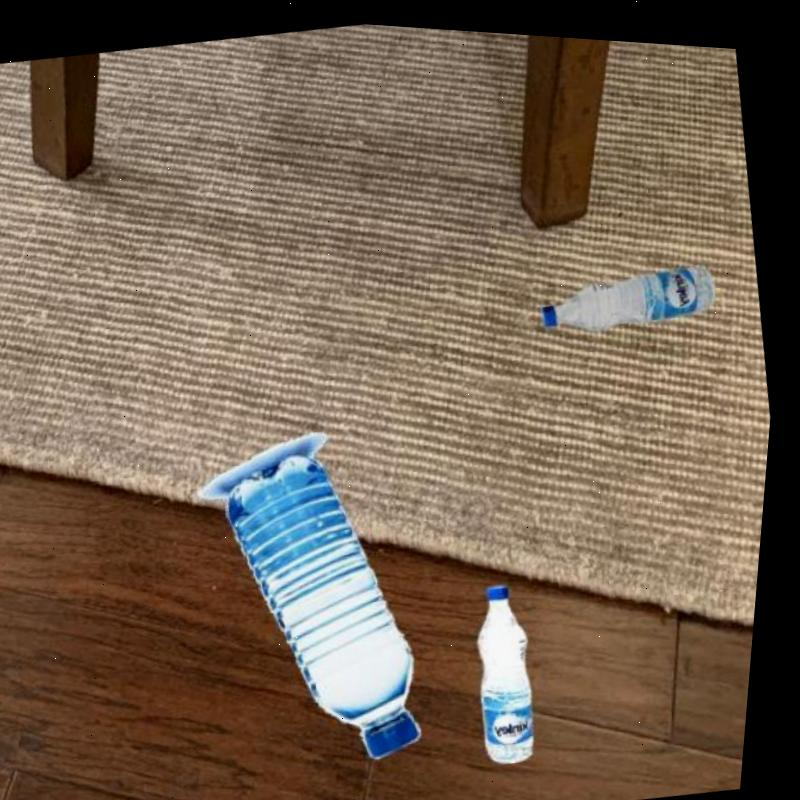botella: (208, 428, 456, 777), (467, 570, 563, 761), (538, 246, 724, 342)
